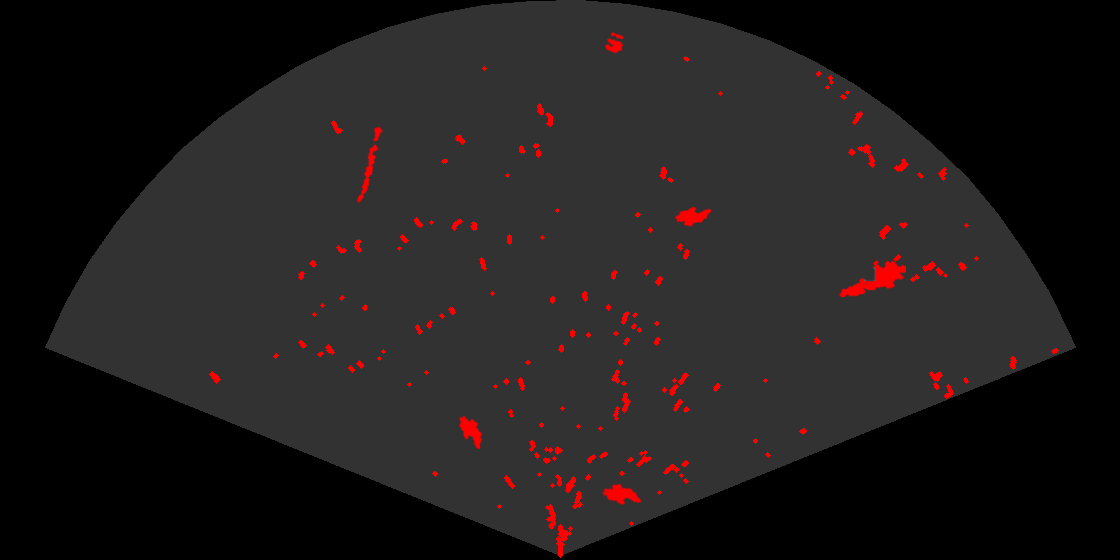AUV: (601, 482, 643, 507), (457, 414, 484, 451), (673, 205, 714, 228)
ball: (603, 30, 626, 55)
chain: (356, 124, 384, 205)
frogman: (838, 258, 906, 299)
